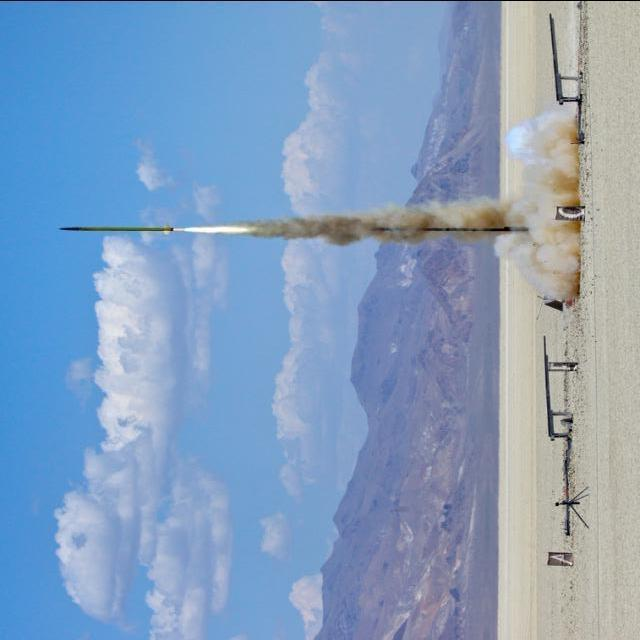missile: (53, 219, 178, 244)
